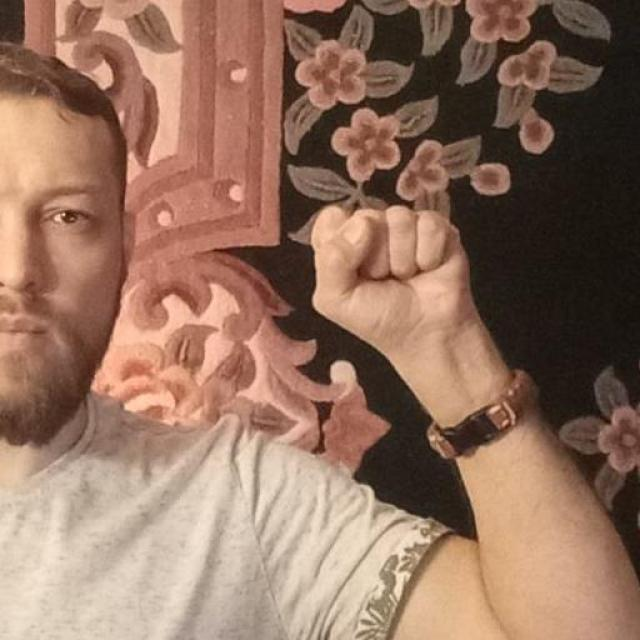hand: (308, 201, 512, 425)
